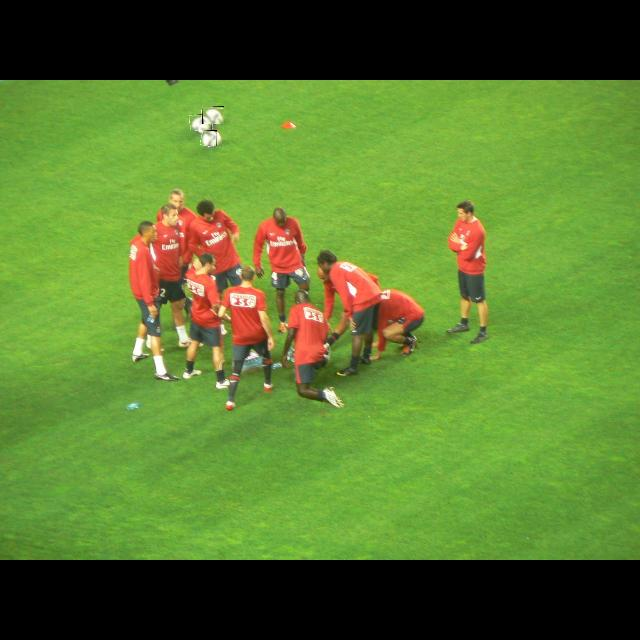Football: (202, 106, 224, 124), (190, 114, 212, 130), (201, 130, 217, 146)
